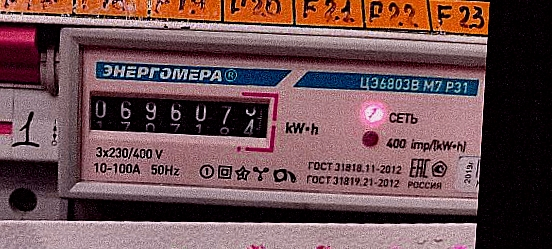0: (193, 100, 209, 122), (93, 97, 108, 119)
4: (242, 115, 256, 137)
6: (118, 97, 133, 119), (168, 100, 183, 121)
7: (217, 103, 234, 125)
9: (143, 99, 157, 120)
screen: (74, 79, 283, 150)
